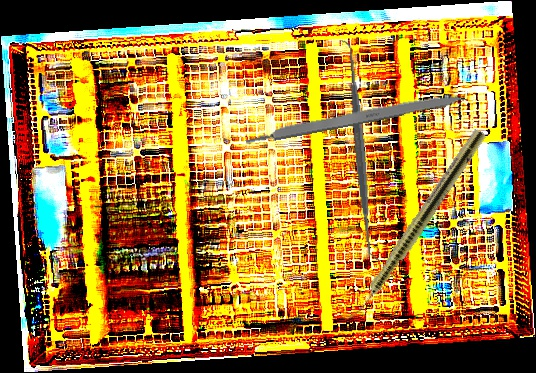Handpiece: (342, 125, 488, 331)
Scalpel Handle: (243, 88, 467, 147)
Spatula Surgical: (338, 37, 383, 265)
